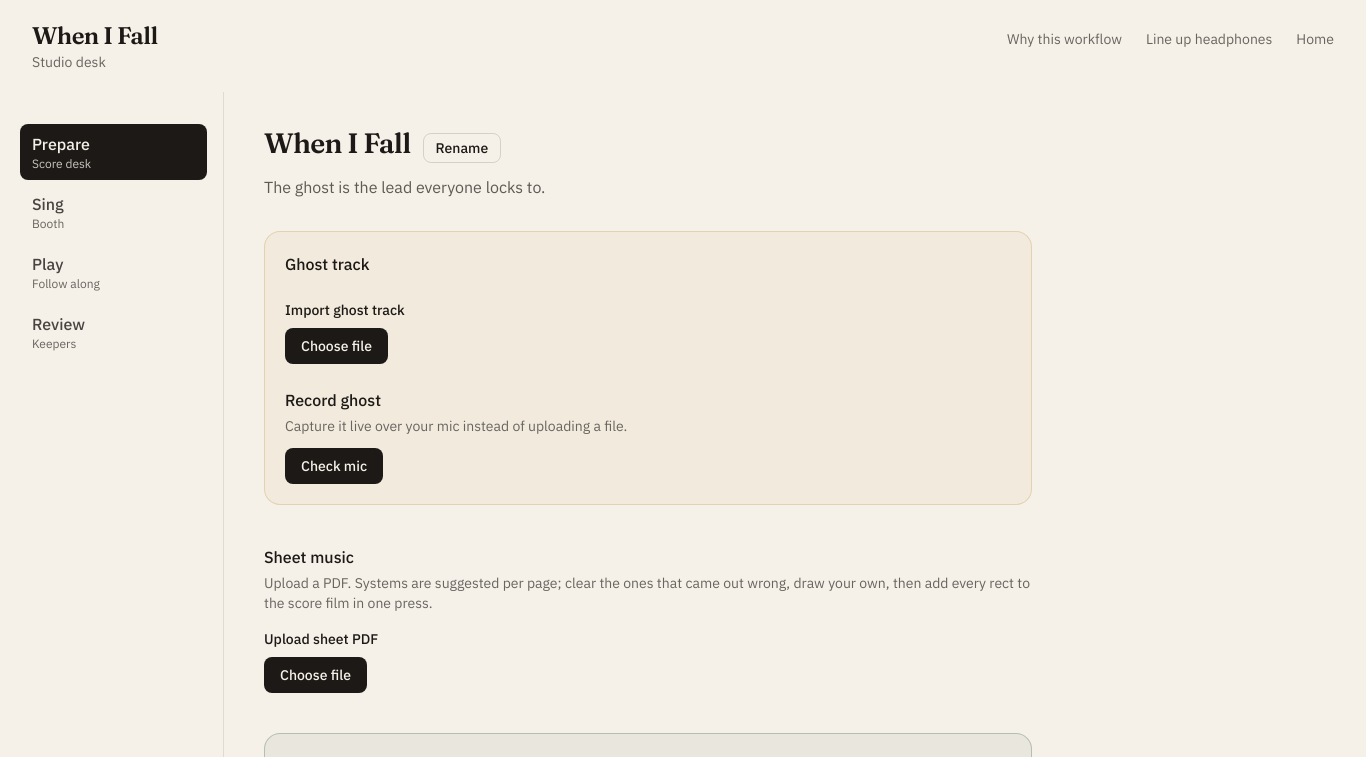
Test: PreparePage sheet upload › renames the song from the prepare page and persists it
Expected: the heading "When I Fall" in the row of "Score desk" is shown, 264,124 -> 410,163
Step 1. Click the button with aria-label "Rename song" → (462, 148), box 422,133 -> 501,163
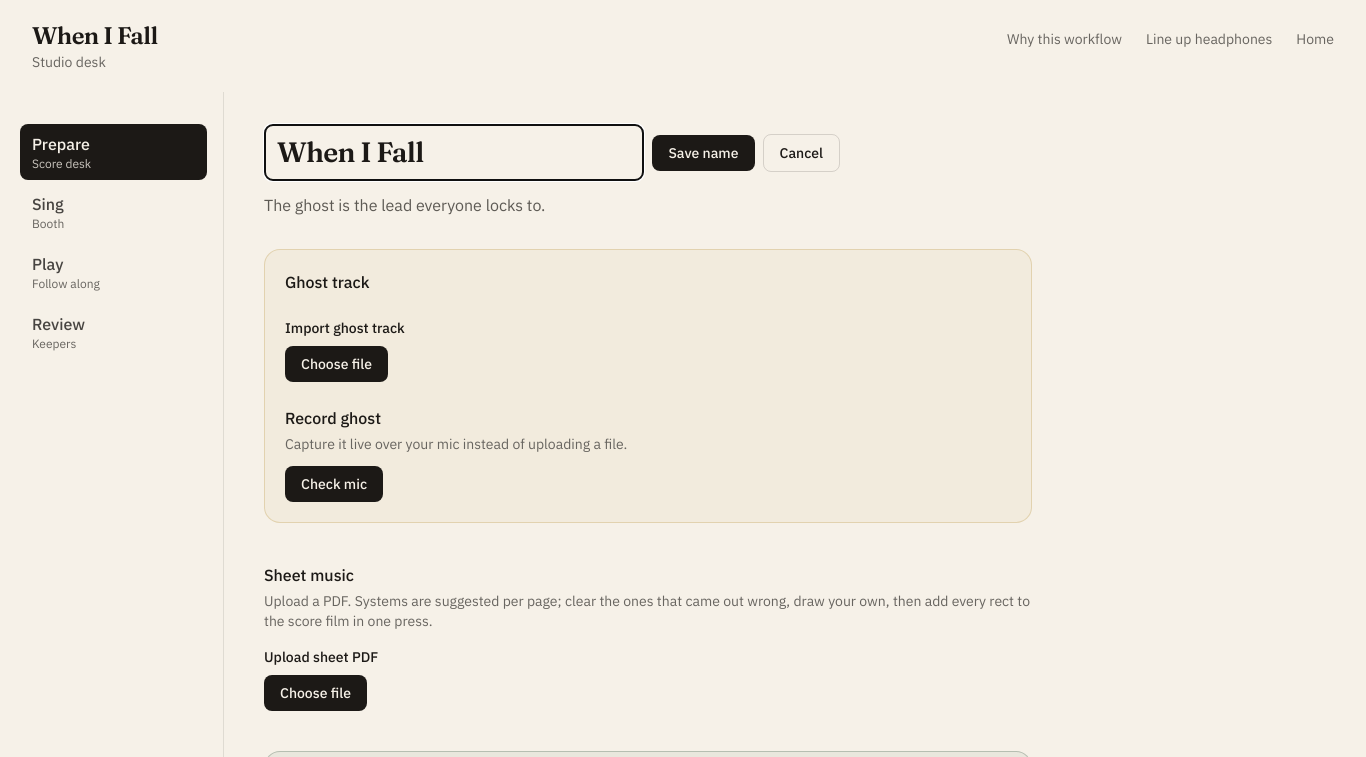
Step 2. Replace the text in the field named "Song name" with "  When I Fall in Love  " → (454, 153), box 264,124 -> 644,181
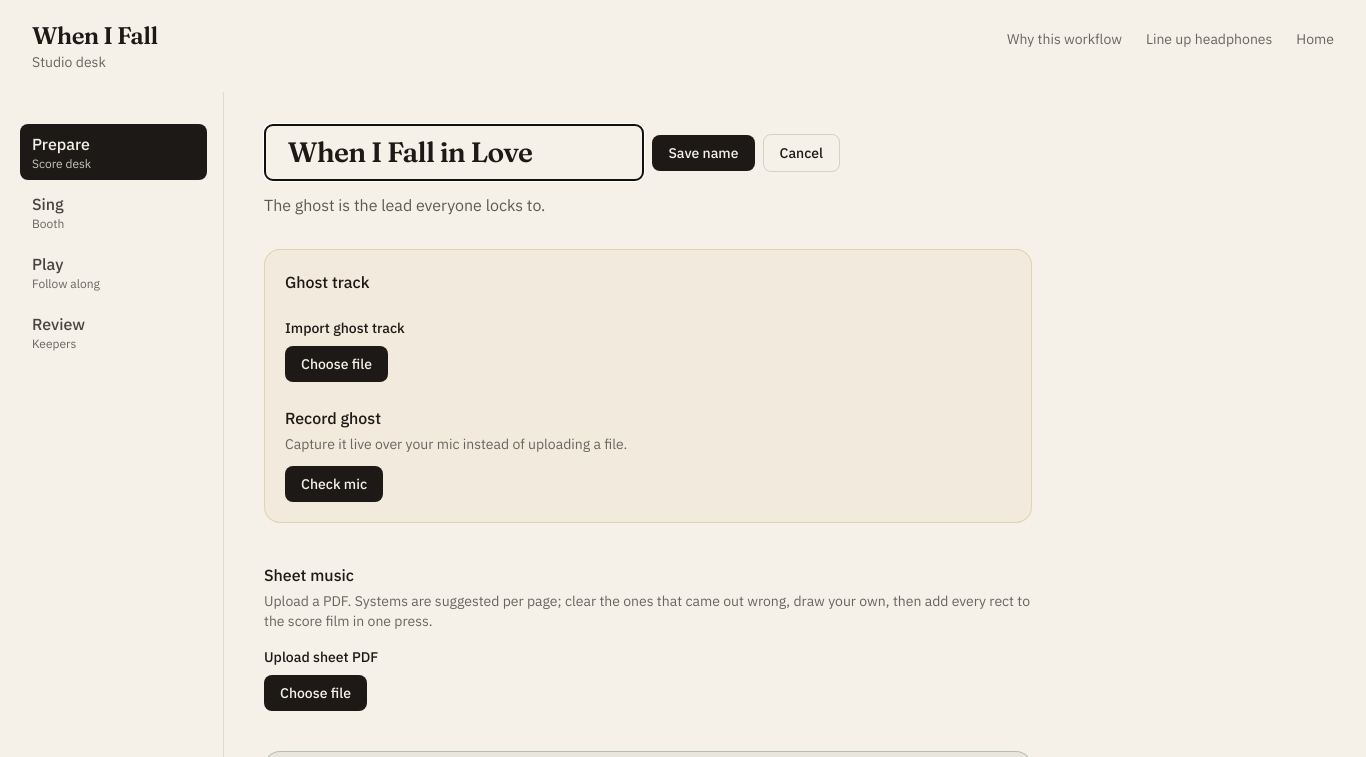
Step 3. Click the button "Save name" → (704, 153), box 652,135 -> 754,171
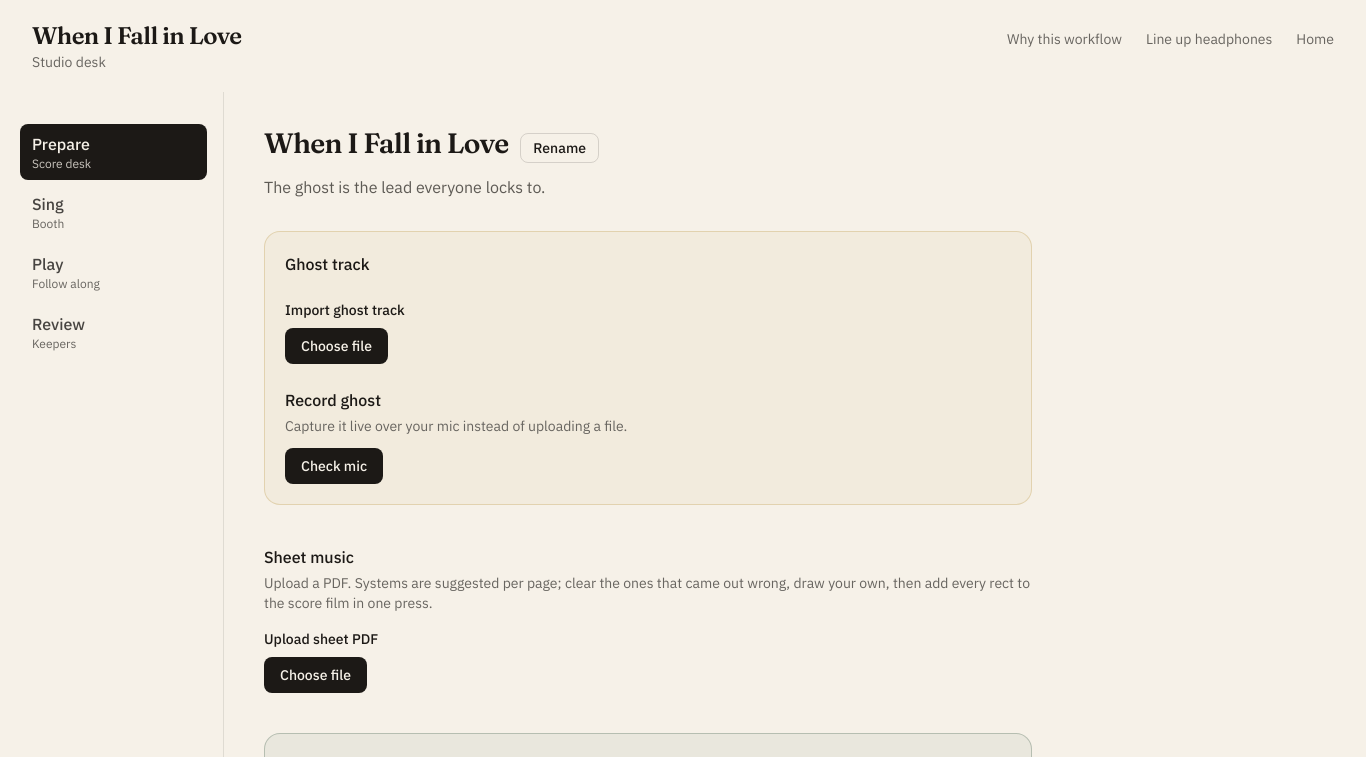
Result: the heading "When I Fall in Love" in the row of "Score desk" is shown at 264,124 -> 508,163
Result: the heading "When I Fall in Love" in the row of "Why this workflow" is shown at 32,21 -> 242,50
